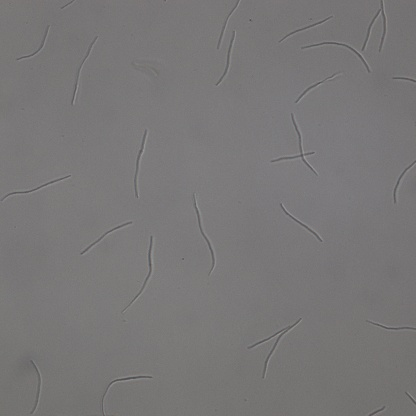Sensitive: (248, 316, 304, 377), (271, 111, 318, 176), (123, 235, 156, 310), (191, 193, 218, 276), (100, 374, 153, 416), (301, 41, 371, 72), (71, 34, 99, 106), (2, 175, 72, 201), (82, 220, 133, 253), (281, 203, 322, 242), (279, 15, 334, 42), (361, 1, 387, 52), (132, 128, 150, 199), (18, 25, 50, 60), (216, 31, 237, 84), (392, 158, 416, 203), (216, 1, 238, 49), (298, 73, 338, 99), (366, 319, 416, 337), (27, 360, 43, 416)
